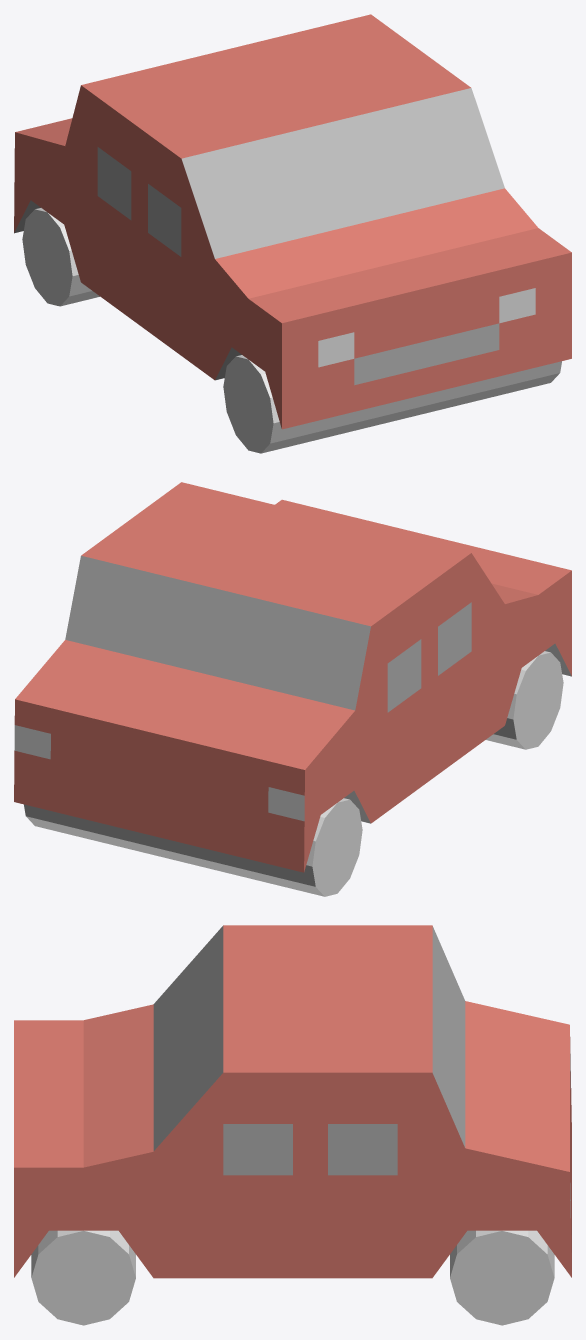
File: model_fixed.fbx
The picture shows the model from 3 angles, top to bottom: view 1: azimuth 30°, elevation 25°; view 2: azimuth 150°, elevation 25°; view 3: azimuth 270°, elevation 25°; orthographic projection. The views are drawn at different scales.
Visible parts, largest first — view 1: mesh_672680355, mesh_997756352, mesh_1515829637; view 2: mesh_672680355, mesh_1515829637, mesh_997756352; view 3: mesh_672680355, mesh_1515829637, mesh_997756352.
Part boxes in pixels (box(x1,y1,x2,y2)): mesh_672680355: box(14, 14, 571, 429); mesh_997756352: box(223, 355, 561, 453); mesh_1515829637: box(22, 208, 99, 306); mesh_672680355: box(14, 482, 571, 872); mesh_1515829637: box(24, 798, 362, 896); mesh_997756352: box(486, 651, 563, 749); mesh_672680355: box(14, 925, 571, 1278); mesh_1515829637: box(450, 1230, 554, 1325); mesh_997756352: box(31, 1230, 135, 1325).
Bounding box in the file's own units: 20 × 16 × 32.
